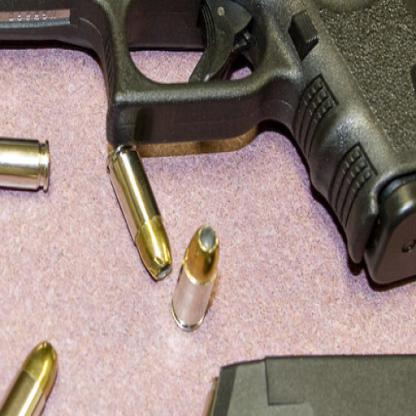gun: (0, 0, 415, 291)
